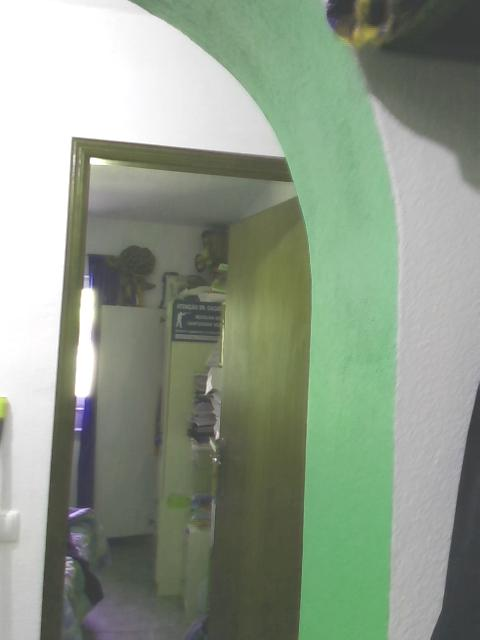open_door: (40, 136, 311, 639)
